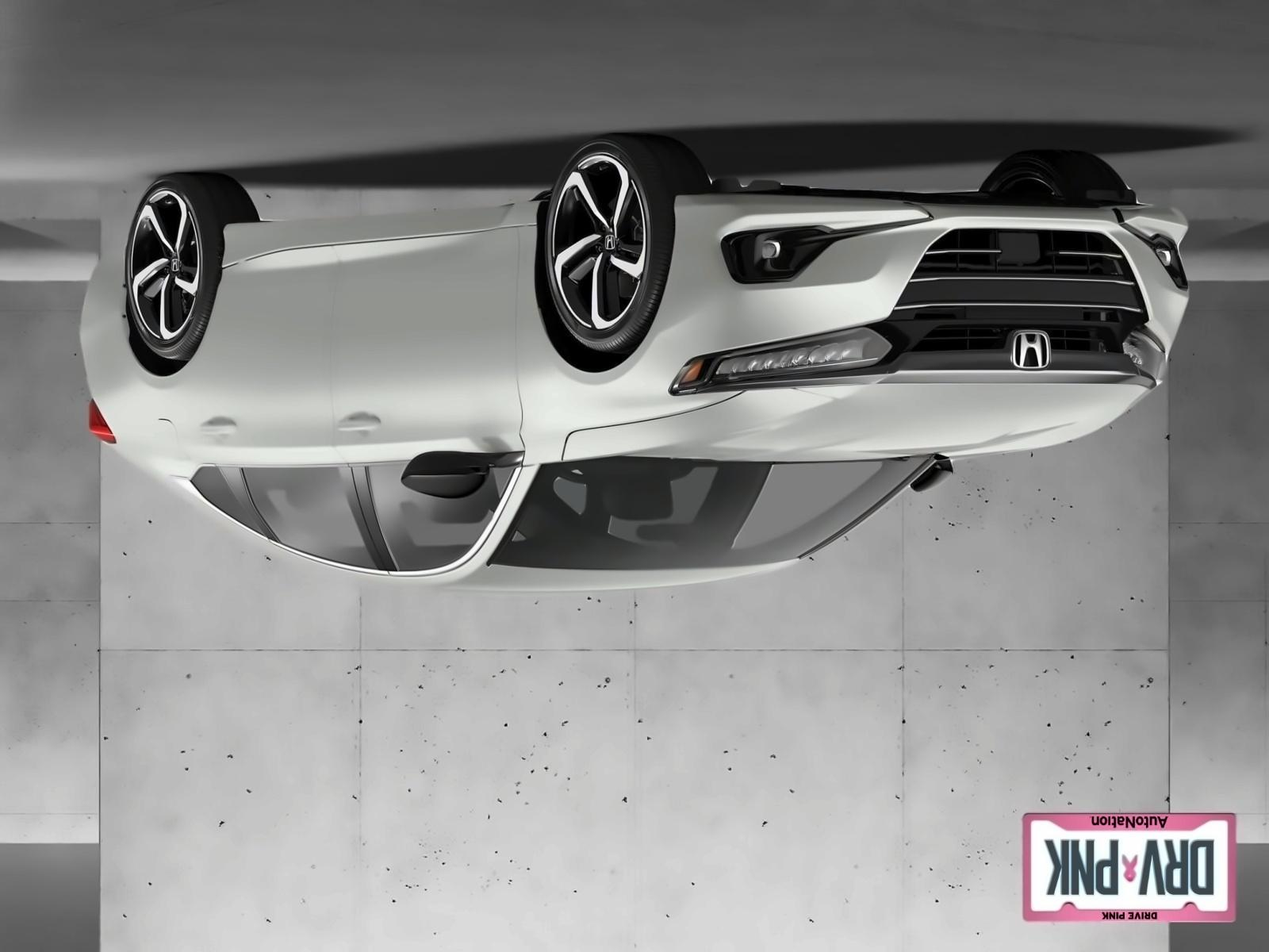Car hood: (559, 378, 1159, 469)
Fender - -F-L-: (516, 197, 673, 478)
Fender - -R-L-: (83, 321, 192, 459)
Front bumper: (657, 187, 1206, 321)
Headlight - -L-: (660, 318, 908, 403)
Headlight - -R-: (1114, 318, 1180, 397)
Passenger-s door - -F-L-: (338, 230, 518, 583)
Passenger-s door - -R-L-: (192, 229, 337, 579)
Rear bumper: (83, 187, 135, 322)
Rear light - -L-: (67, 392, 120, 460)
Side bumper - -L-: (211, 195, 547, 273)
Side mirror - -L-: (395, 440, 501, 507)
Side mirror - -R-: (905, 433, 960, 499)
